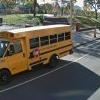buses: (0, 23, 74, 86)
